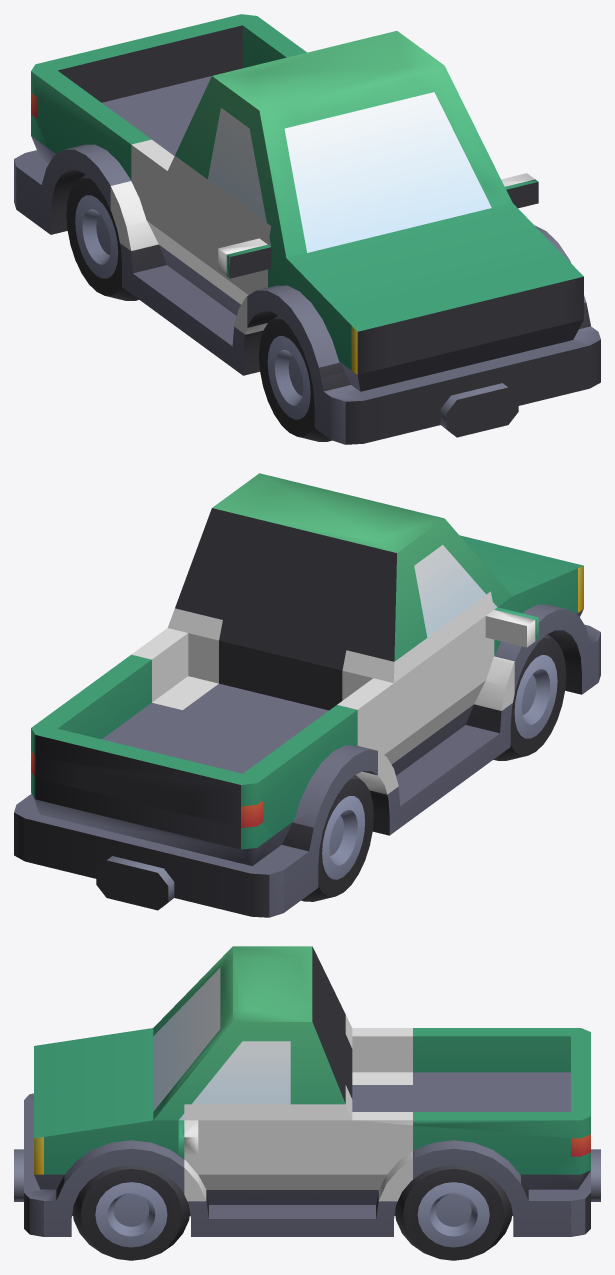
Rendered from bigTruck.glb.
The picture shows the model from 3 angles, top to bottom: view 1: azimuth 30°, elevation 25°; view 2: azimuth 150°, elevation 25°; view 3: azimuth 270°, elevation 25°; orthographic projection. The views are drawn at different scales.
Parts seen in each view (by area): view 1: body, trunk, hood, door_l, wheel_fr, wheel_rr; view 2: body, hood, door_l, door_r, wheel_fr, wheel_rr, trunk; view 3: body, hood, door_r, wheel_rl, wheel_fl, trunk, door_l.
Boxes of the visible parts, left/top/right/bottom form: body: left=120, top=31, right=588, bottom=432; trunk: left=321, top=260, right=600, bottom=444; hood: left=14, top=14, right=306, bottom=234; door_l: left=110, top=139, right=271, bottom=334; wheel_fr: left=259, top=315, right=331, bottom=441; wheel_rr: left=66, top=174, right=138, bottom=300; body: left=175, top=473, right=588, bottom=835; hood: left=14, top=654, right=377, bottom=917; door_l: left=337, top=591, right=535, bottom=794; door_r: left=131, top=608, right=222, bottom=709; wheel_fr: left=493, top=634, right=566, bottom=760; wheel_rr: left=301, top=775, right=373, bottom=901; trunk: left=460, top=535, right=600, bottom=689; body: left=61, top=946, right=412, bottom=1236; hood: left=413, top=1028, right=600, bottom=1236; door_r: left=184, top=1085, right=412, bottom=1201; wheel_rl: left=395, top=1165, right=512, bottom=1260; wheel_fl: left=72, top=1165, right=189, bottom=1260; trunk: left=14, top=1042, right=60, bottom=1236; door_l: left=345, top=1015, right=412, bottom=1084.
Bounding box in the file's own units: 5.1 × 4.42 × 10.03.
5 materials, 1 textured.
